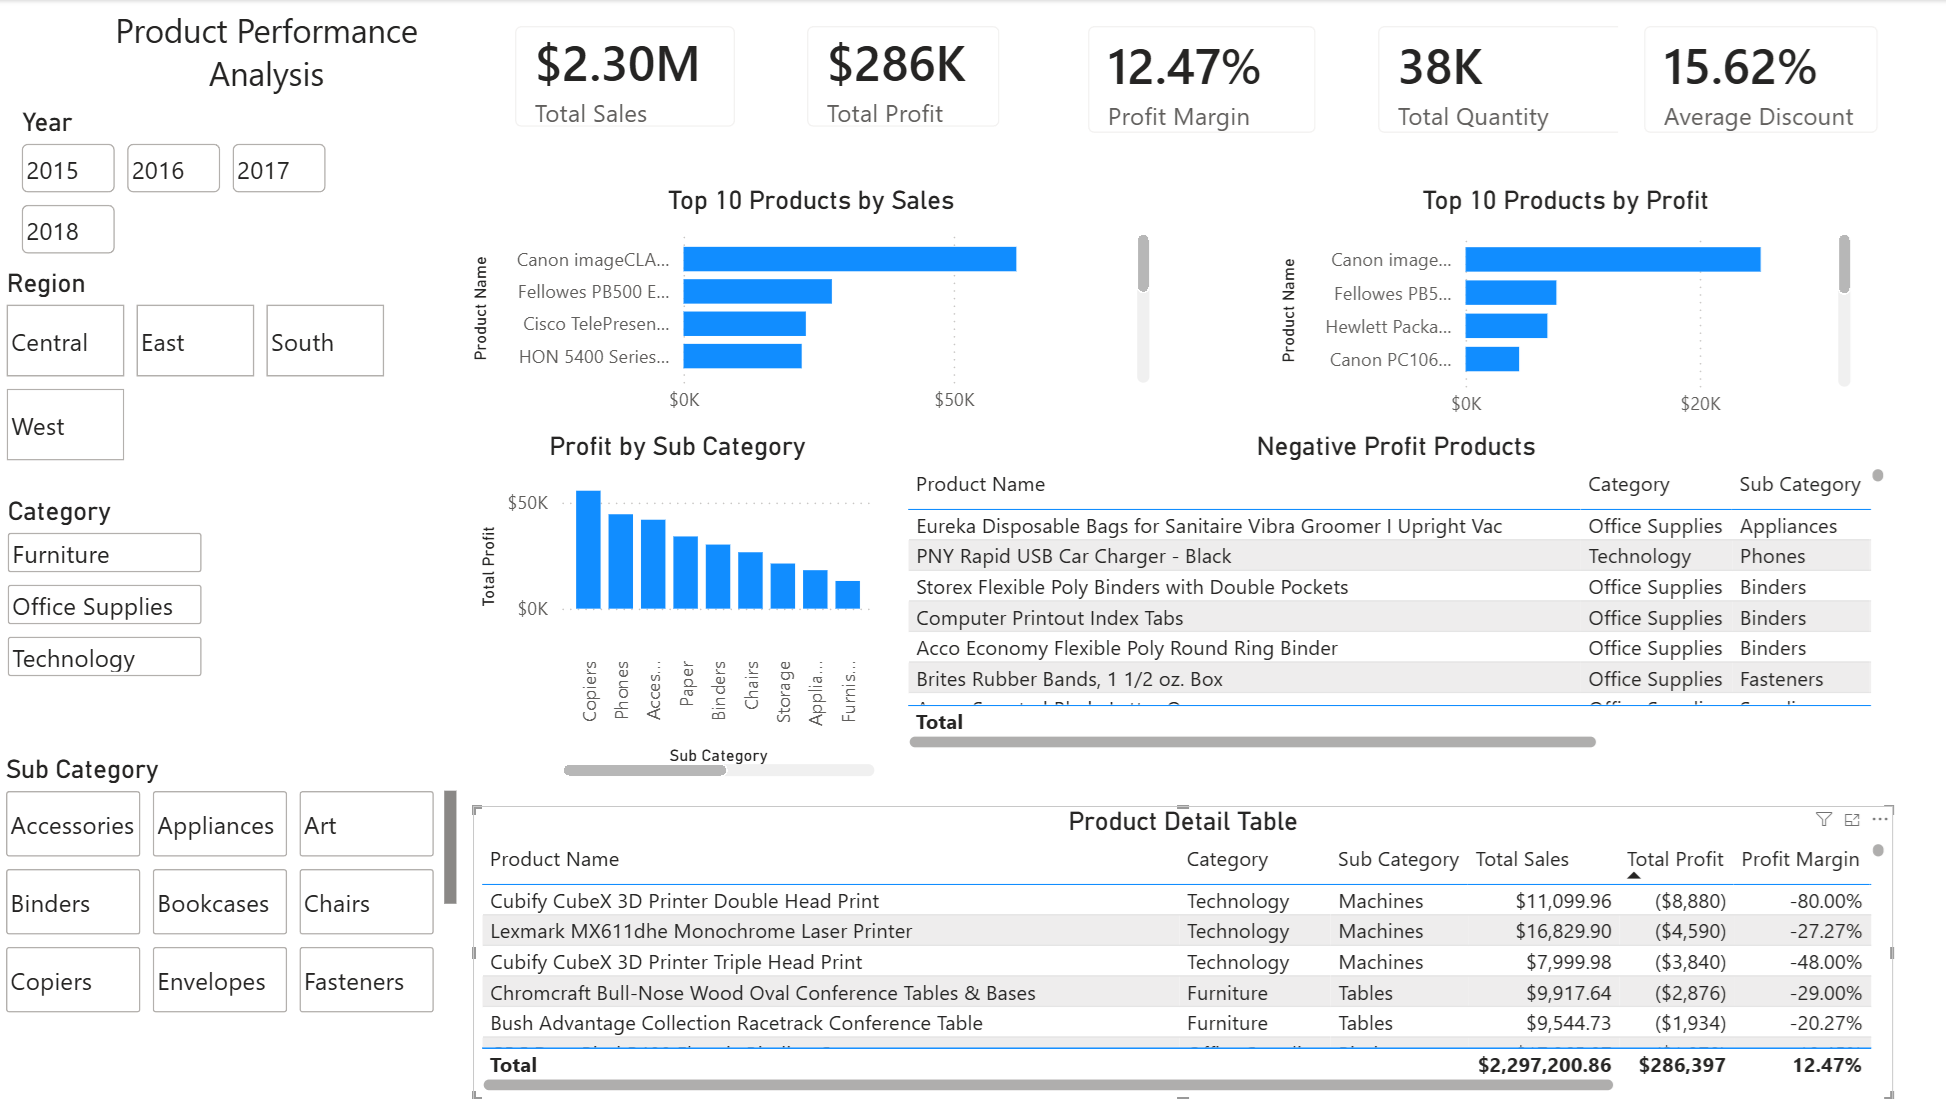

The dashboard page shown, as its layout file describes it:
{"tool":"powerbi","page":{"name":"Product Analysis","canvas":[1280,720],"ordinal":1},"visuals":[{"type":"textbox","box":[71.3,0,208.8,95.5],"z":0},{"type":"cardVisual","fields":{"Data":["Measures_.Total Sales"]},"box":[321.3,0,178.7,100.1],"z":1000},{"type":"cardVisual","fields":{"Data":["Measures_.Total Profit"]},"box":[512.4,0,160.3,100.1],"z":2000},{"type":"cardVisual","fields":{"Data":["Measures_.Profit Margin"]},"box":[696.3,0,183.9,104.7],"z":3000},{"type":"cardVisual","fields":{"Data":["Measures_.Total Quantity"]},"box":[886.1,0,207.4,104.7],"z":4000},{"type":"cardVisual","fields":{"Data":["Measures_.Average Discount"]},"box":[1060.1,0,187.2,104.7],"z":5000},{"type":"clusteredBarChart","title":"Top 10 Products by Sales","fields":{"Category":["DimProduct.Product Name"],"Y":["Measures_.Total Sales"]},"box":[305.6,121.1,452.8,158.4],"z":6000},{"type":"clusteredBarChart","title":"Top 10 Products by Profit","fields":{"Category":["DimProduct.Product Name"],"Y":["Measures_.Total Profit"]},"box":[834.4,121.1,382.8,161],"z":7000},{"type":"clusteredColumnChart","title":"Profit by Sub Category","fields":{"Category":["DimProduct.Sub Category"],"Y":["Measures_.Total Profit"]},"box":[310.8,282,267.6,231],"z":8000},{"type":"tableEx","title":"Product Detail Table","fields":{"Values":["DimProduct.Product Name","DimProduct.Category","DimProduct.Sub Category","Measures_.Total Sales","Measures_.Total Profit","Measures_.Profit Margin","Measures_.Total Quantity","Measures_.Average Discount"]},"box":[310.8,527.4,929.2,192.4],"z":9000},{"type":"tableEx","title":"Negative Profit Products","fields":{"Values":["DimProduct.Product Name","DimProduct.Category","DimProduct.Sub Category","Measures_.Total Sales","Measures_.Total Profit","Measures_.Profit Margin"]},"box":[589.6,282,650.5,212.7],"z":10000},{"type":"advancedSlicerVisual","fields":{"Values":["DimDate.Year"]},"box":[10.5,70,210.1,102.1],"z":11000},{"type":"advancedSlicerVisual","fields":{"Values":["DimLocation.Region"]},"box":[0.7,175.4,258.5,132.2],"z":12000},{"type":"advancedSlicerVisual","fields":{"Values":["DimProduct.Category"]},"box":[1.3,324.6,137.4,124.3],"z":13000},{"type":"advancedSlicerVisual","fields":{"Values":["DimProduct.Sub Category"]},"box":[0,493.4,305.6,176],"z":14000}]}

Visuals, with their boxes in screenshot pixels (x1, y1, x2, y2), scaled from the page's 1280x720 canvas onto the 1946x1099 screenshot:
textbox: box(108, 0, 426, 146)
cardVisual - Measures_.Total Sales: box(488, 0, 760, 153)
cardVisual - Measures_.Total Profit: box(779, 0, 1023, 153)
cardVisual - Measures_.Profit Margin: box(1059, 0, 1338, 160)
cardVisual - Measures_.Total Quantity: box(1347, 0, 1662, 160)
cardVisual - Measures_.Average Discount: box(1612, 0, 1896, 160)
"Top 10 Products by Sales" clusteredBarChart: box(465, 185, 1153, 427)
"Top 10 Products by Profit" clusteredBarChart: box(1269, 185, 1851, 431)
"Profit by Sub Category" clusteredColumnChart: box(473, 430, 879, 783)
"Product Detail Table" tableEx: box(473, 805, 1885, 1098)
"Negative Profit Products" tableEx: box(896, 430, 1885, 755)
advancedSlicerVisual - DimDate.Year: box(16, 107, 335, 263)
advancedSlicerVisual - DimLocation.Region: box(1, 268, 394, 470)
advancedSlicerVisual - DimProduct.Category: box(2, 495, 211, 685)
advancedSlicerVisual - DimProduct.Sub Category: box(0, 753, 465, 1022)
